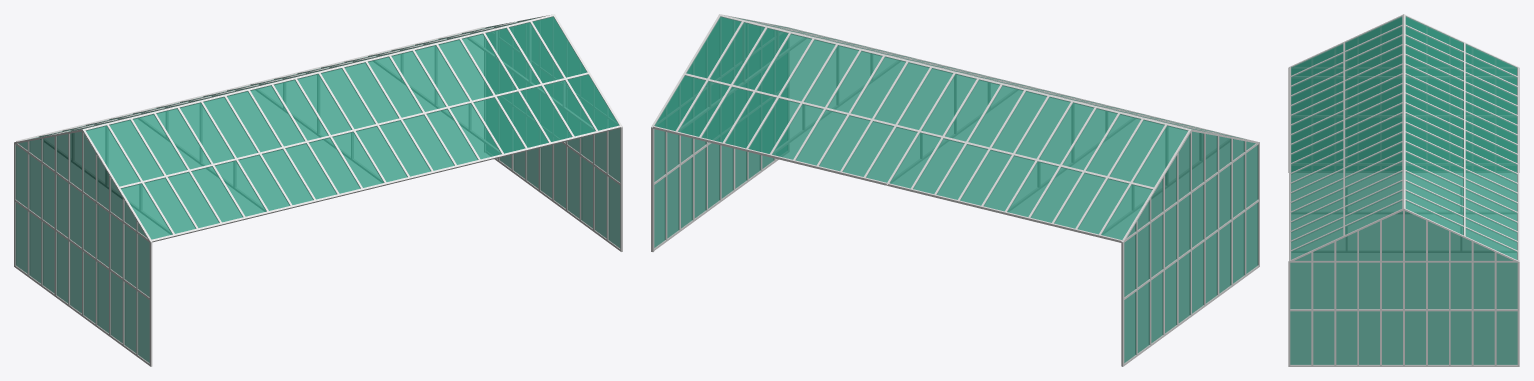
File: GardenCenterWalls_01.fbx
The picture shows the model from 3 angles, left to right: view 1: azimuth 30°, elevation 25°; view 2: azimuth 150°, elevation 25°; view 3: azimuth 270°, elevation 25°; orthographic projection. The views are drawn at different scales.
Parts seen in each view (by area): view 1: GardenCenterWalls_01; view 2: GardenCenterWalls_01; view 3: GardenCenterWalls_01.
Boxes of the visible parts, x1=… form: GardenCenterWalls_01: x1=14, y1=14, x2=622, y2=366; GardenCenterWalls_01: x1=651, y1=14, x2=1259, y2=366; GardenCenterWalls_01: x1=1288, y1=14, x2=1519, y2=366.
Size of the model in its own units: 40.2 by 15.25 by 20.17.
